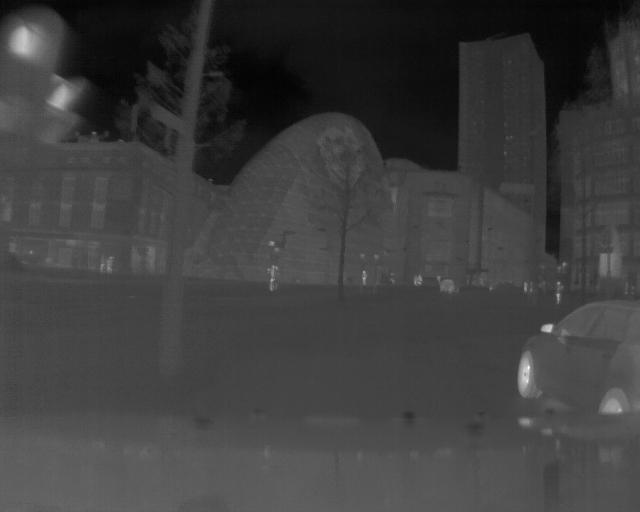car: (513, 294, 640, 425), (439, 277, 457, 293)
person: (267, 261, 278, 293), (553, 281, 564, 306)
